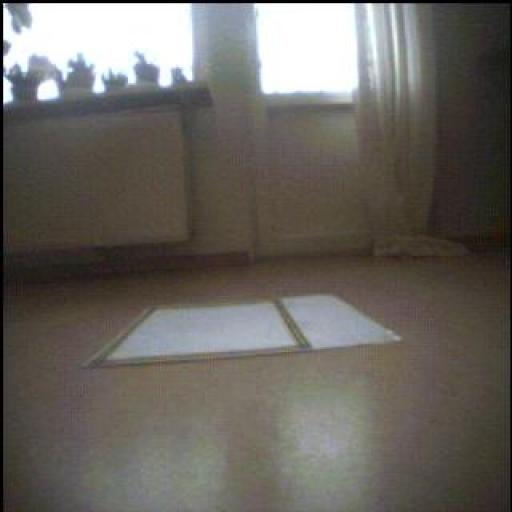Pad: (87, 296, 401, 368)
